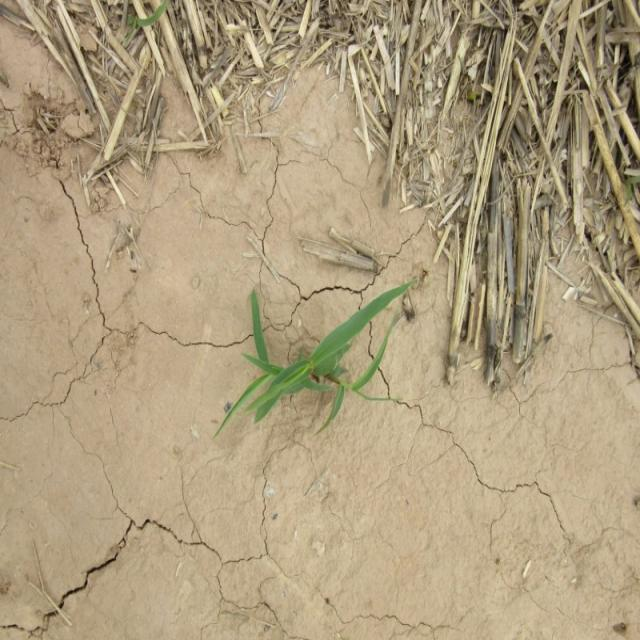bg: (212, 252, 424, 447)
